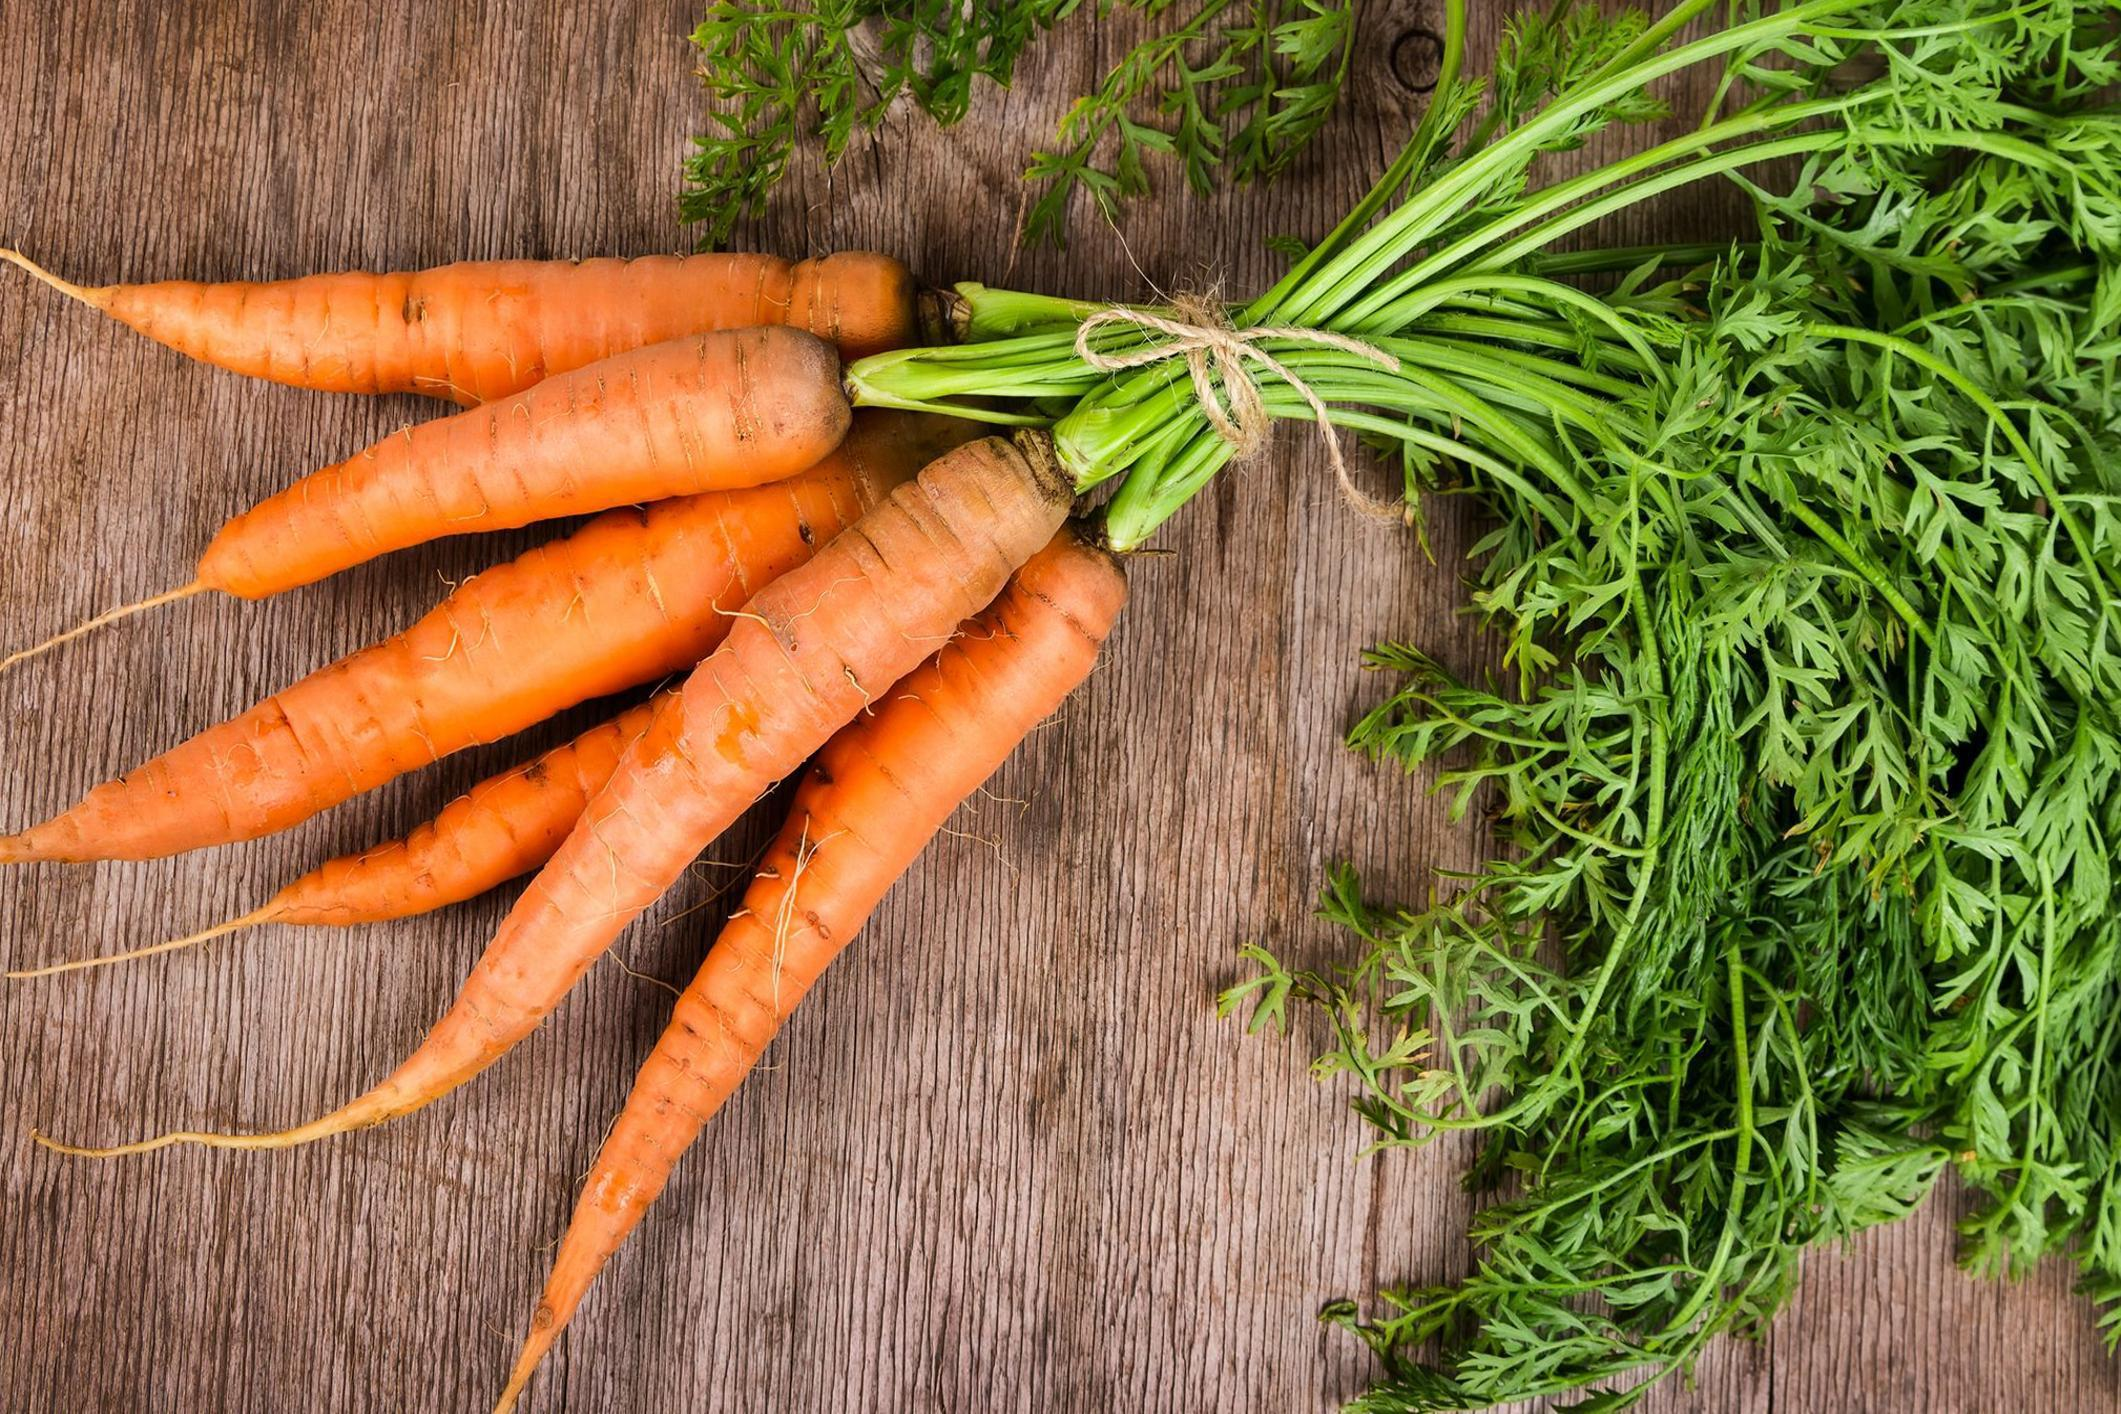carrot: (0, 207, 1117, 1318)
